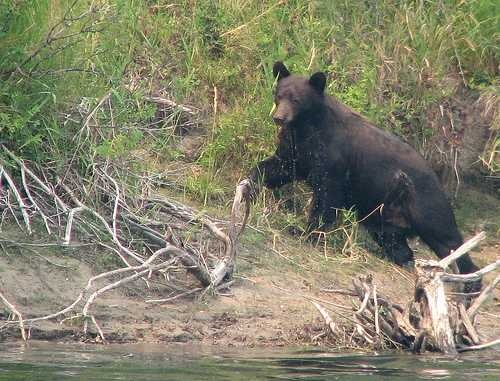bear: (224, 61, 352, 189)
